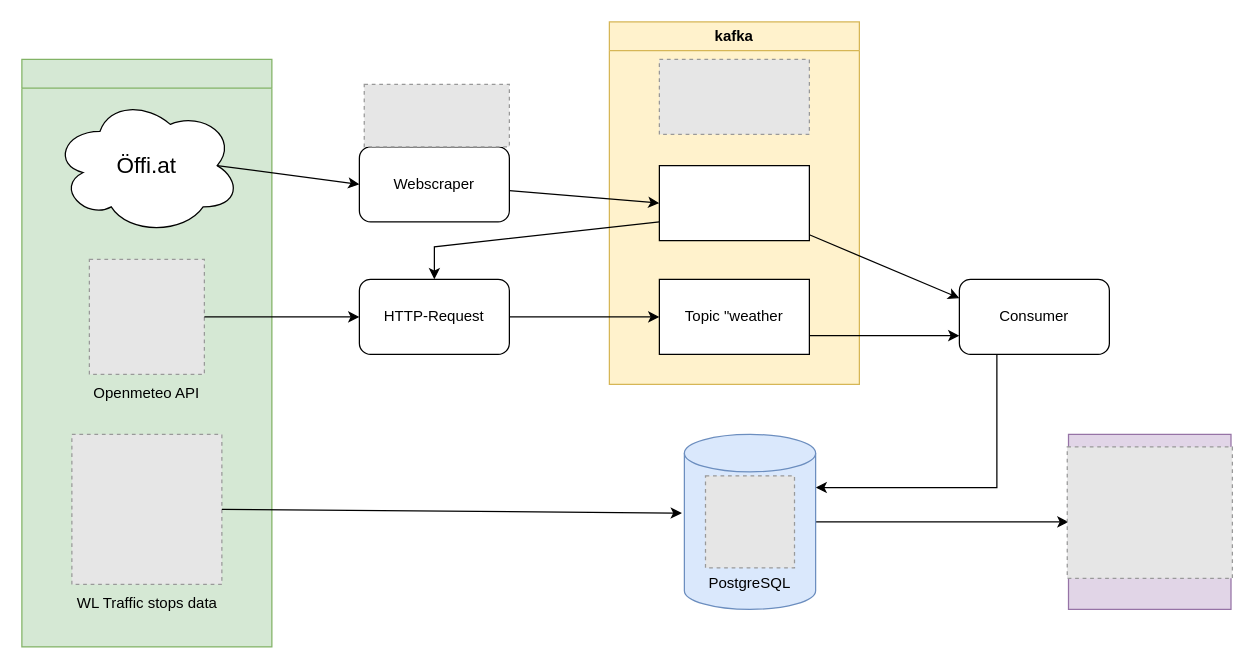
This 1255x669 diagram has some shape labels left out. Grey dashed boxes stand in for pictures. Each missing label, with the box of its shape:
Data Sources: (21, 58, 272, 647)
Grafana: (1067, 433, 1231, 609)
Topic "delay": (658, 164, 809, 241)
